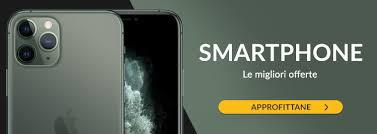Smartphone: (11, 14, 129, 134), (92, 13, 183, 134)
